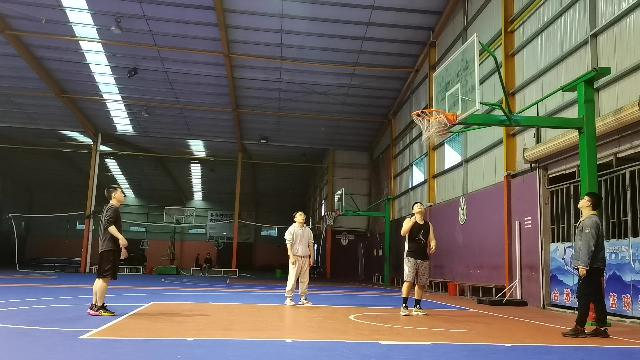basket: (324, 209, 336, 224)
goal: (432, 118, 448, 136)
